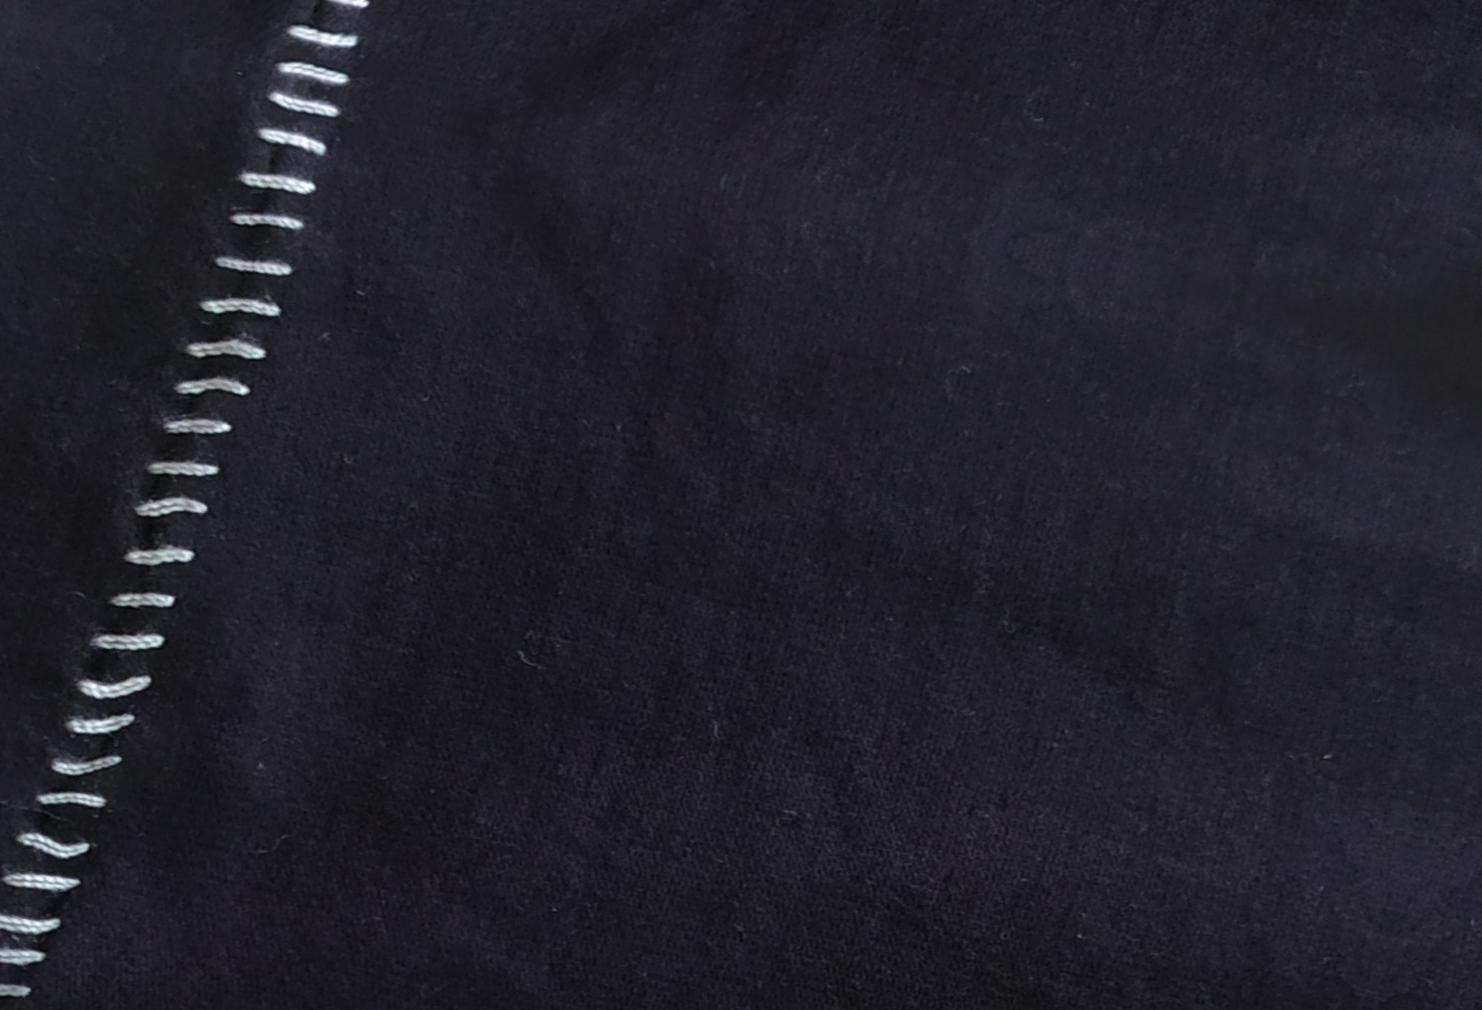slub: (0, 0, 380, 1002)
